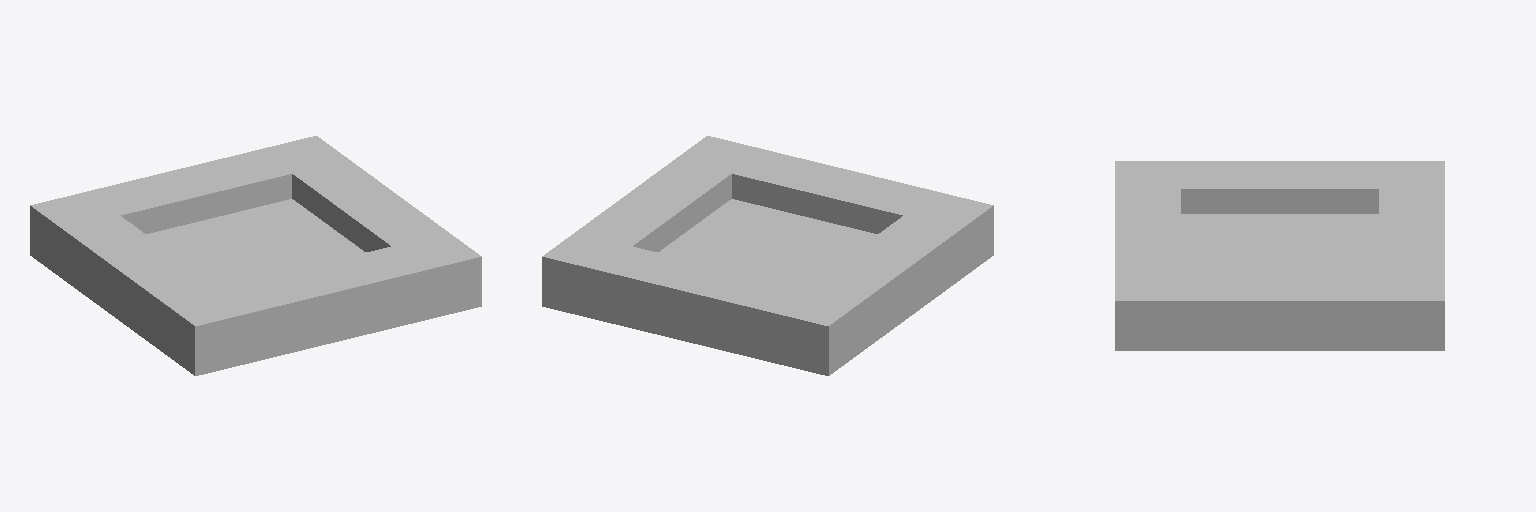
Rendered from tankvalve.obj.
The picture shows the model from 3 angles: view 1: azimuth 30°, elevation 25°; view 2: azimuth 150°, elevation 25°; view 3: azimuth 270°, elevation 25°; orthographic projection.
Visible parts, largest first — view 1: Cube_Cube.003; view 2: Cube_Cube.003; view 3: Cube_Cube.003.
Boxes of the visible parts, x1=… form: Cube_Cube.003: x1=30, y1=136, x2=481, y2=375; Cube_Cube.003: x1=542, y1=136, x2=993, y2=375; Cube_Cube.003: x1=1115, y1=161, x2=1444, y2=350.
Bounding box in the file's own units: 0.3 × 0.05 × 0.3.